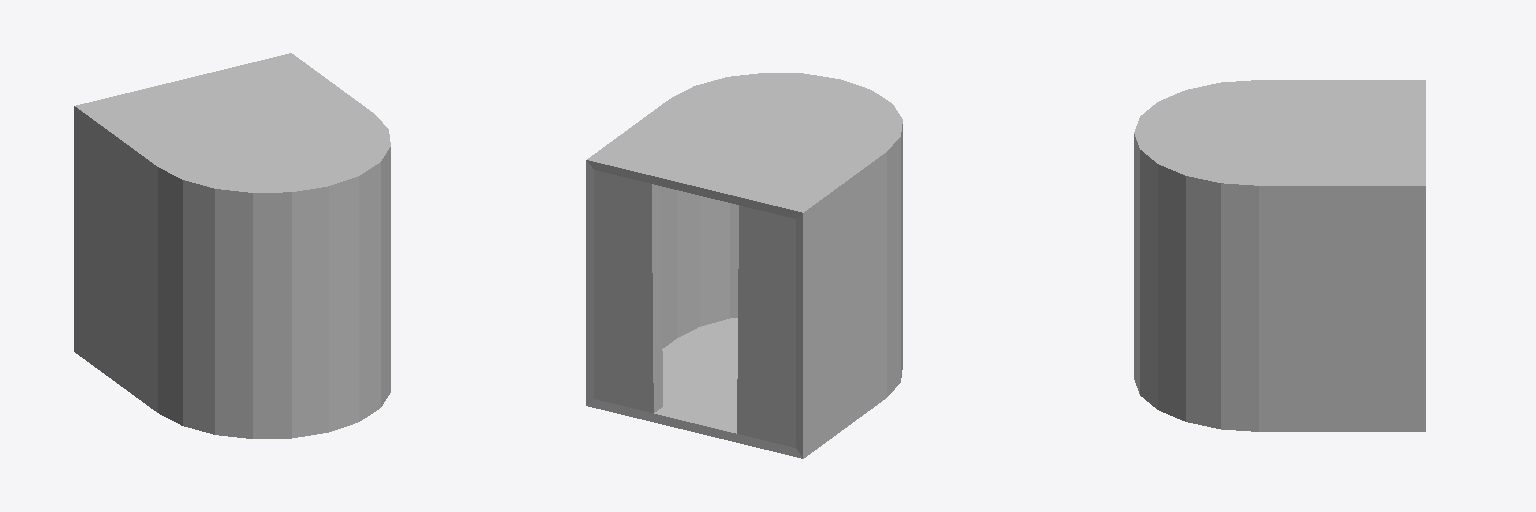
File: elevator_OBJ.obj
3 views of the same model, side by side, from view 1: azimuth 30°, elevation 25°; view 2: azimuth 150°, elevation 25°; view 3: azimuth 270°, elevation 25° (orthographic).
Parts seen in each view (by area): view 1: Elevator3; view 2: Elevator3; view 3: Elevator3.
Part boxes in pixels (left/top/right/bottom): Elevator3: left=74, top=53, right=390, bottom=438; Elevator3: left=586, top=73, right=902, bottom=458; Elevator3: left=1134, top=80, right=1425, bottom=431.
Bounding box in the file's own units: 0.6191 × 0.6711 × 0.7215.